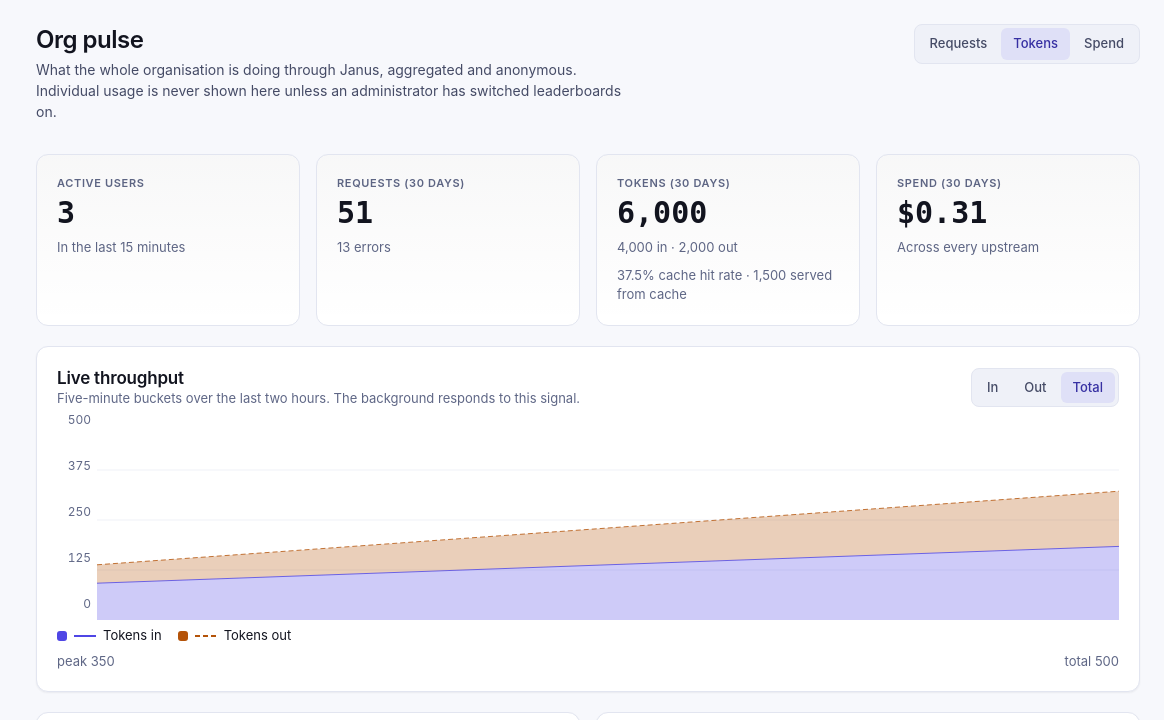
Test case: live throughput — token direction picker › plots only tokens-out after clicking Out, with a footer of that direction alone
Expected: the heading "Live throughput" is shown, left=57, top=368, right=184, bottom=388
Step 1. Click the button "Out" → (1035, 387), box left=1012, top=372, right=1058, bottom=403
(page scrolled)
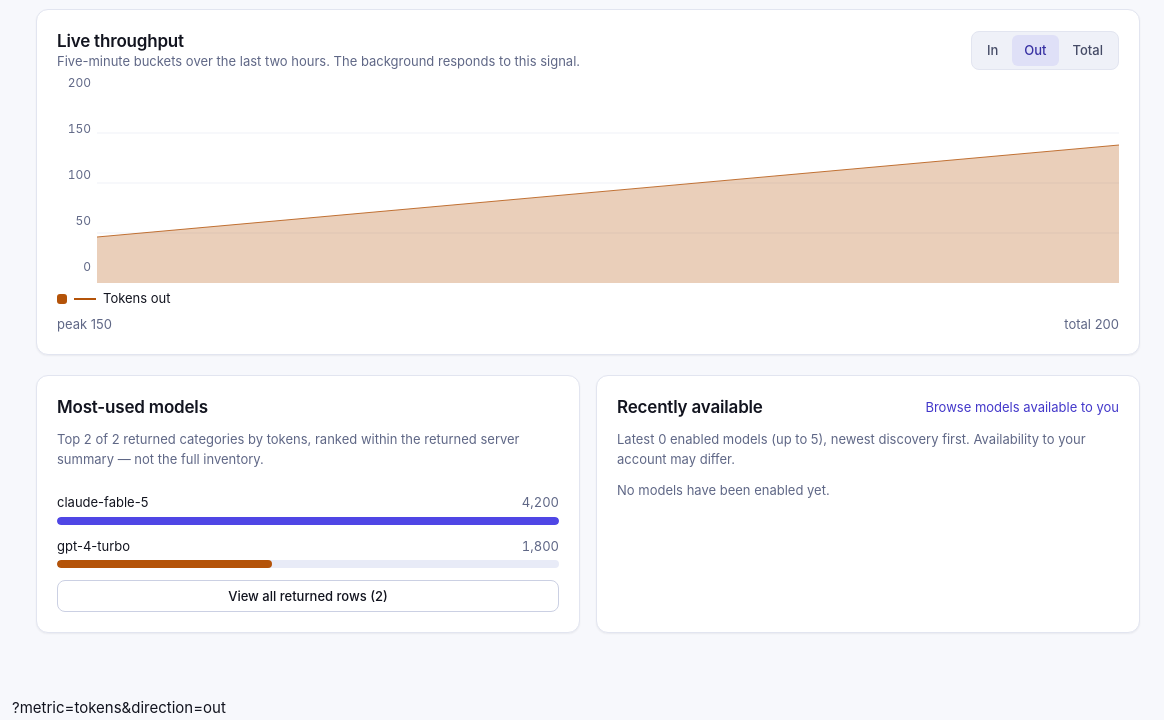
Now the text "peak 150" is shown, box left=57, top=315, right=112, bottom=334
Now the text "total 200" is shown, box left=1064, top=315, right=1119, bottom=334
Now the text with test id "location-search" shows "direction=out", box left=12, top=698, right=226, bottom=717
